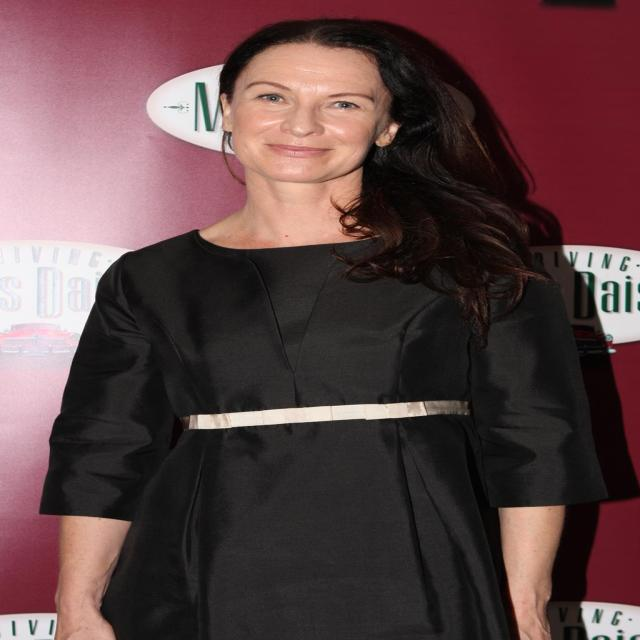Face: (225, 46, 371, 181)
